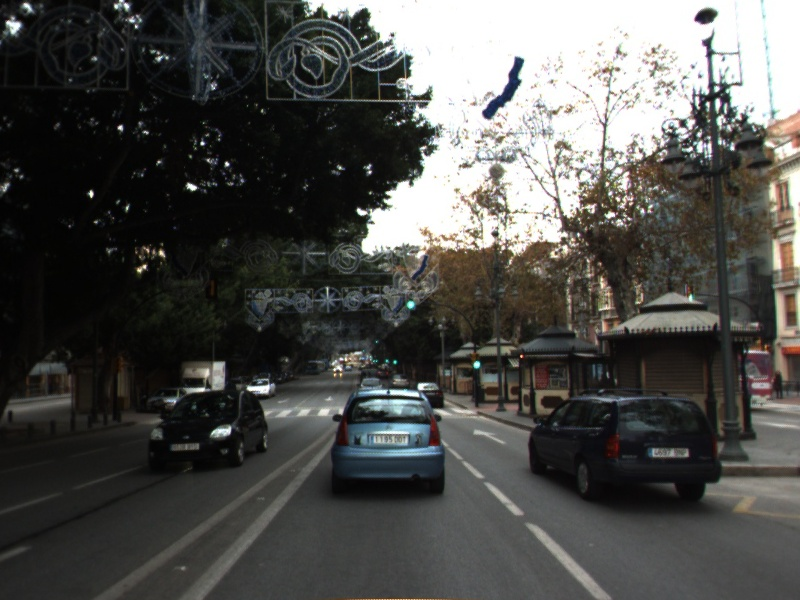STRAIGHT: (471, 427, 509, 447)
